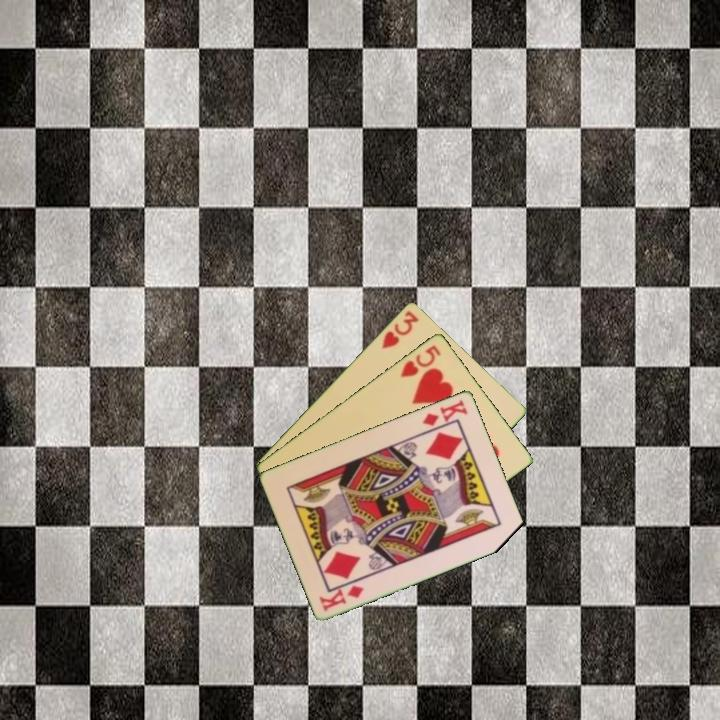3h: (378, 306, 422, 352)
5h: (396, 341, 444, 380)
Kd: (419, 395, 471, 428), (316, 581, 367, 614)
